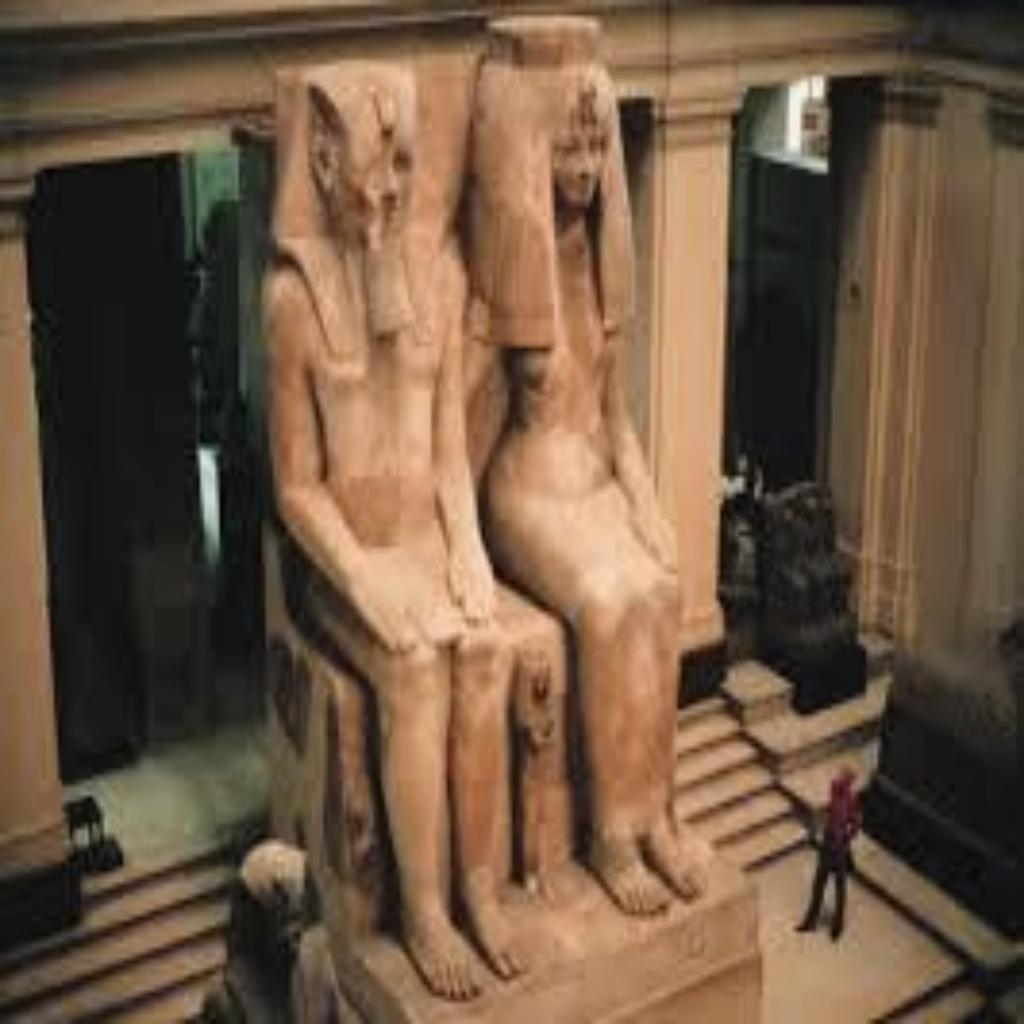Amenhotep III and Tiye: (258, 0, 724, 997)
